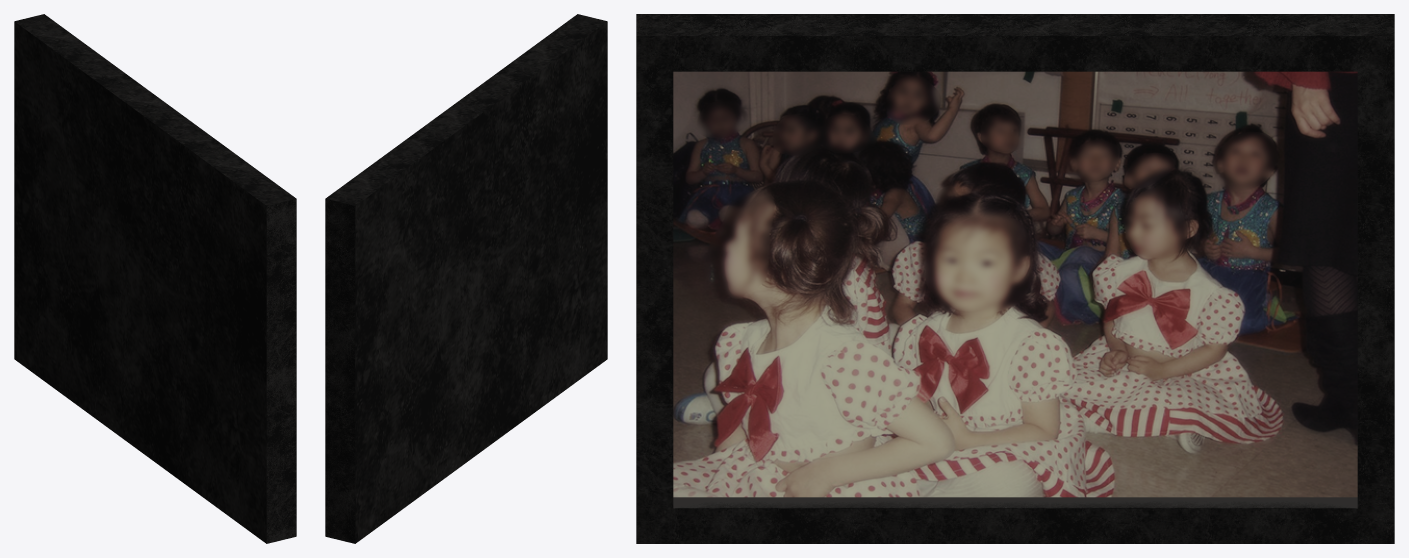
Rendered from frame3_1_emmie performance.FBX.
The picture shows the model from 3 angles, left to right: view 1: azimuth 30°, elevation 25°; view 2: azimuth 150°, elevation 25°; view 3: azimuth 270°, elevation 25°; orthographic projection. The views are drawn at different scales.
Visible parts, largest first — view 1: wall frame002; view 2: wall frame002; view 3: wall frame002.
Part boxes in pixels (x1,y1,x2,y2): wall frame002: (14,14,296,543); wall frame002: (325,14,607,543); wall frame002: (636,14,1394,543).
Size of the model in its own units: 1.64 by 17.68 by 23.92.
Materials: 1 (1 with a texture image).
